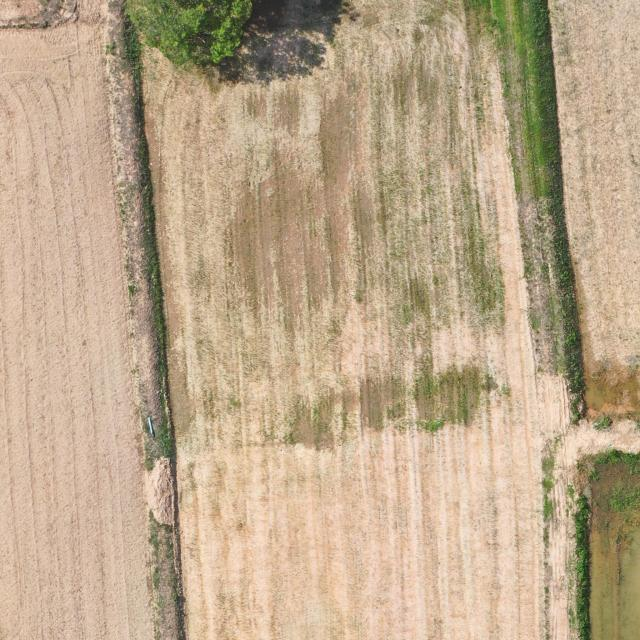Tree: (130, 0, 256, 71)
